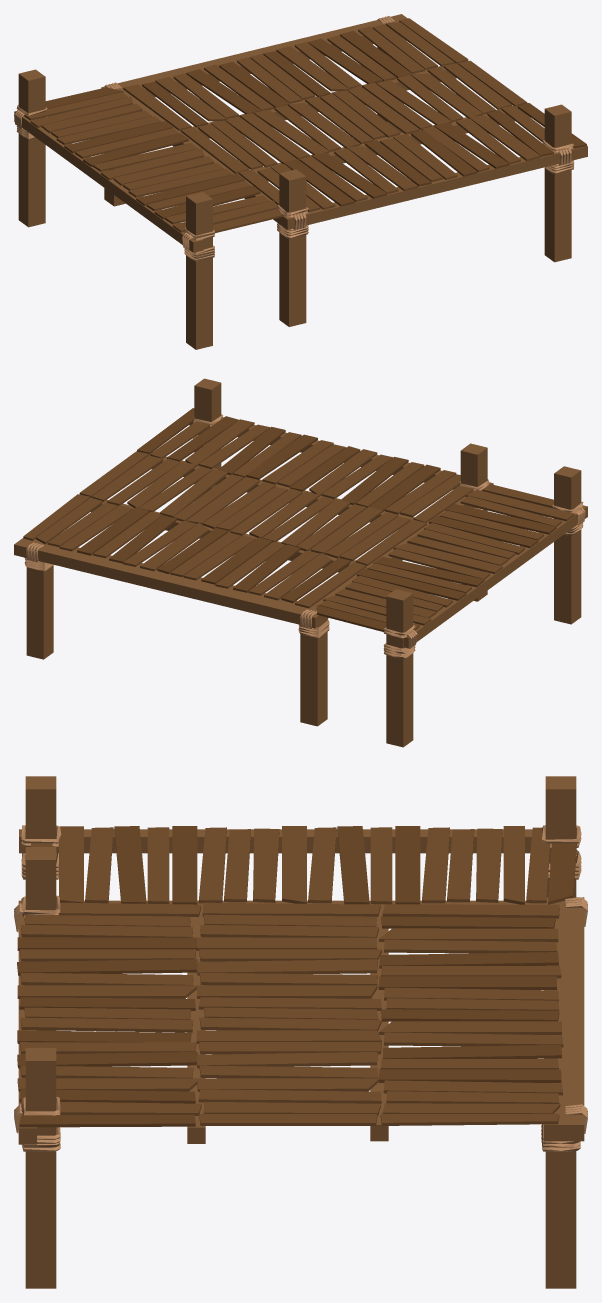
File: HouseFloor_01.fbx
3 views of the same model, one above another, from view 1: azimuth 30°, elevation 25°; view 2: azimuth 150°, elevation 25°; view 3: azimuth 270°, elevation 25° (orthographic). The views are drawn at different scales.
Visible parts, largest first — view 1: HouseFloor_01; view 2: HouseFloor_01; view 3: HouseFloor_01.
Part boxes in pixels (x1=…): HouseFloor_01: x1=14, y1=14, x2=587, y2=349; HouseFloor_01: x1=14, y1=378, x2=587, y2=747; HouseFloor_01: x1=14, y1=776, x2=587, y2=1288.
Size of the model in its own units: 579 by 204 by 467.
